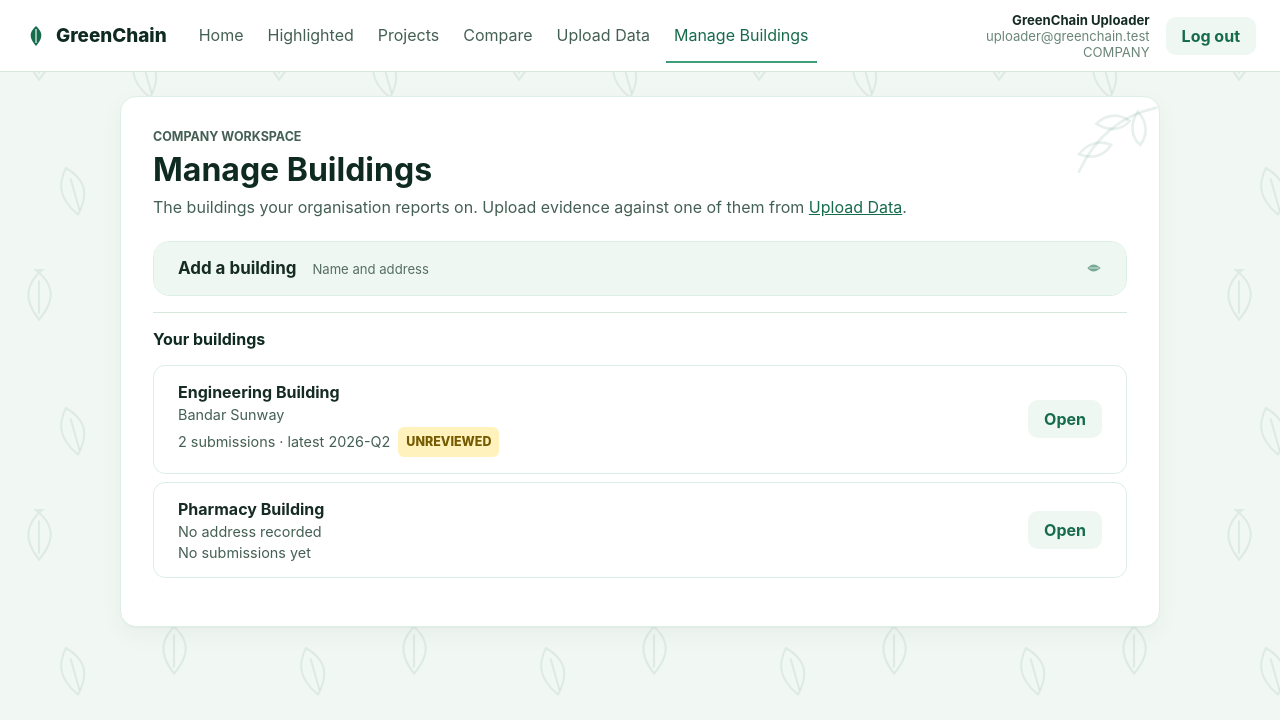
it: manage buildings › opening a building shows its persisted submission history
Expected: the heading "Engineering Building" is shown, [178, 382, 340, 402]
Click the button "Open" in the row of "Bandar Sunway": (1065, 419) [1028, 400, 1102, 438]
(page scrolled)
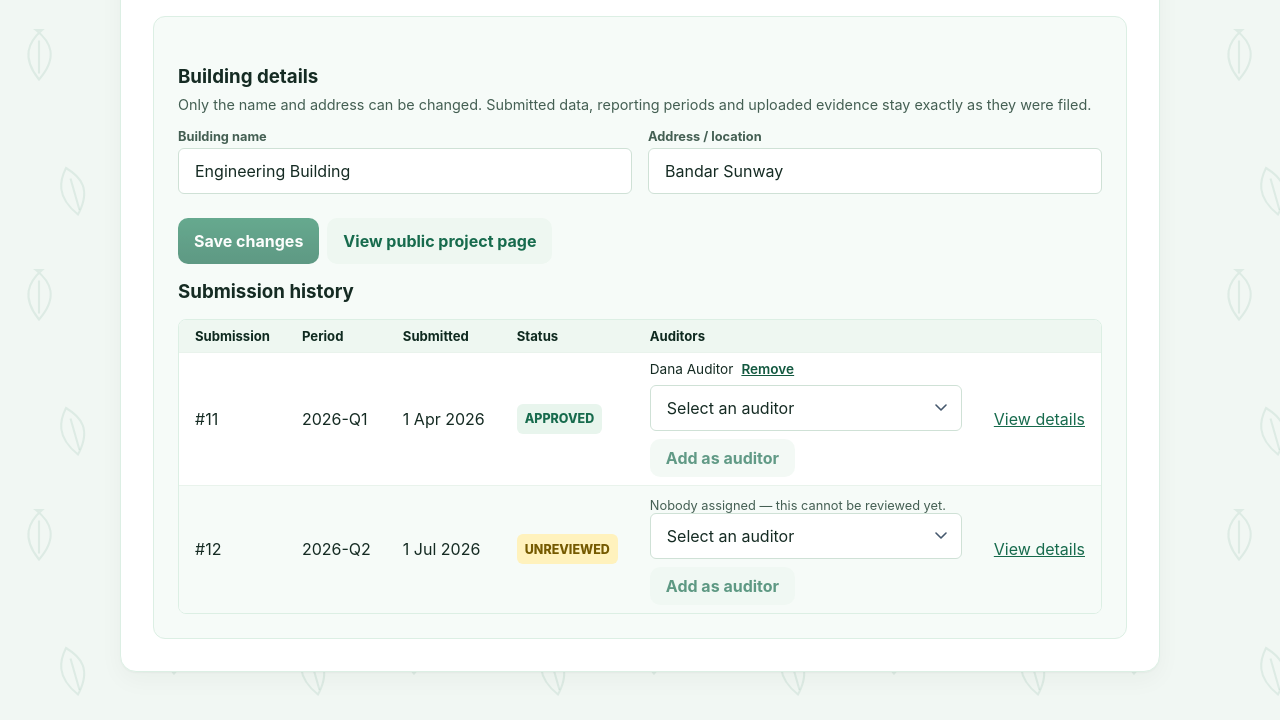
Expected: the text "#11" is shown, [179, 352, 286, 485]
Expected: the text "2026-Q1" is shown, [286, 352, 387, 485]
Expected: the text "APPROVED" is shown, [517, 404, 602, 434]
